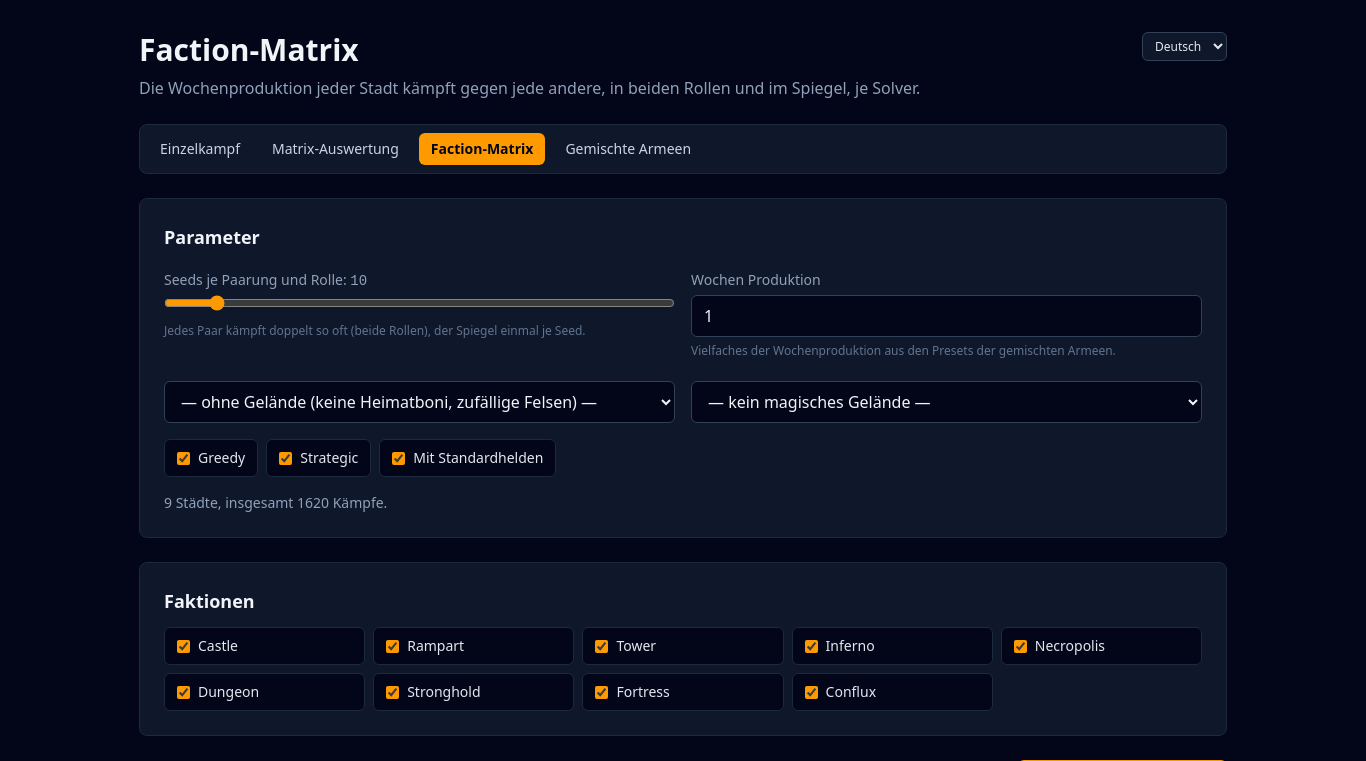
Test case: FactionMatrixPage › sends the options and shows ranking and matrix per solver
Select "Wasser" in the dropdown named "Gelände" at (420, 402), box [164,381,675,423]
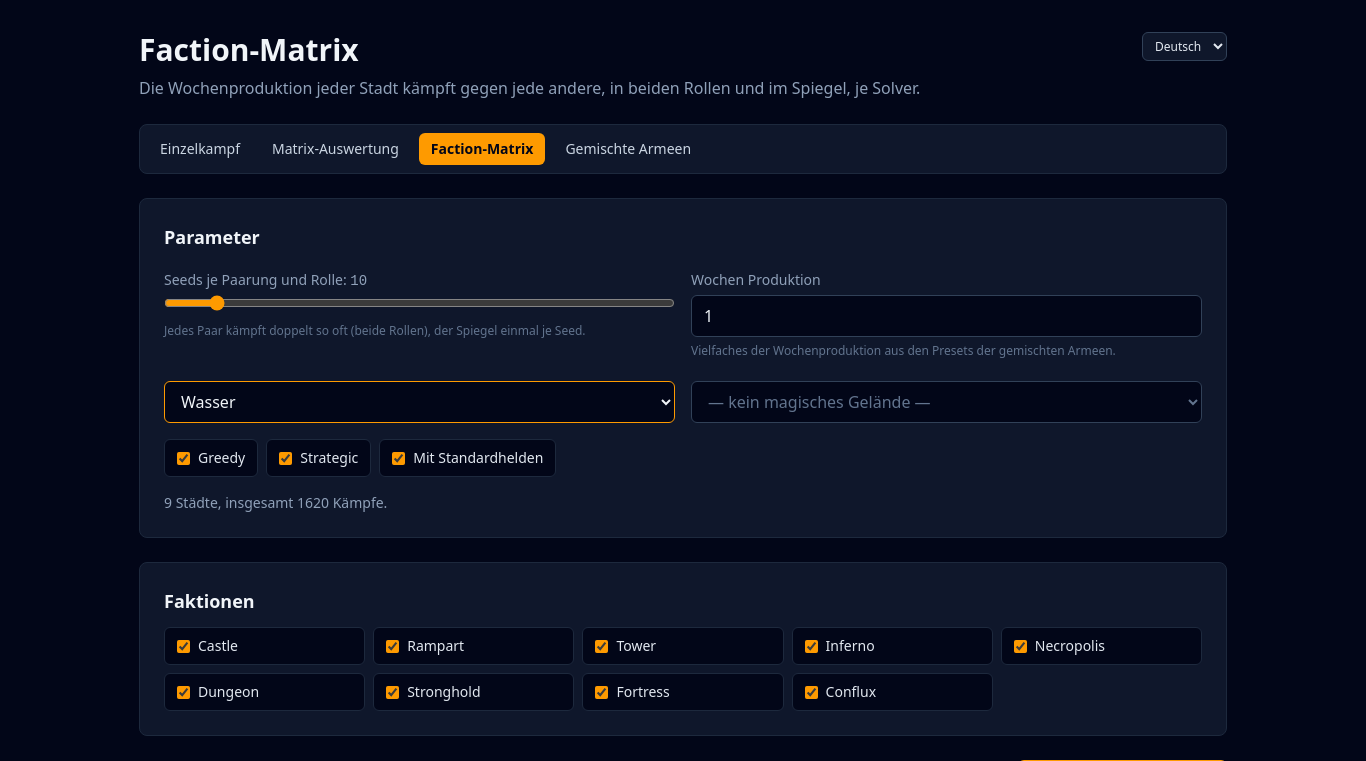
Check: the dropdown named "Magisches Gelände" is disabled, box [691,381,1202,423]
Click the checkbox labelled "Mit Standardhelden" at (399, 458), box [392,452,405,464]
(page scrolled)
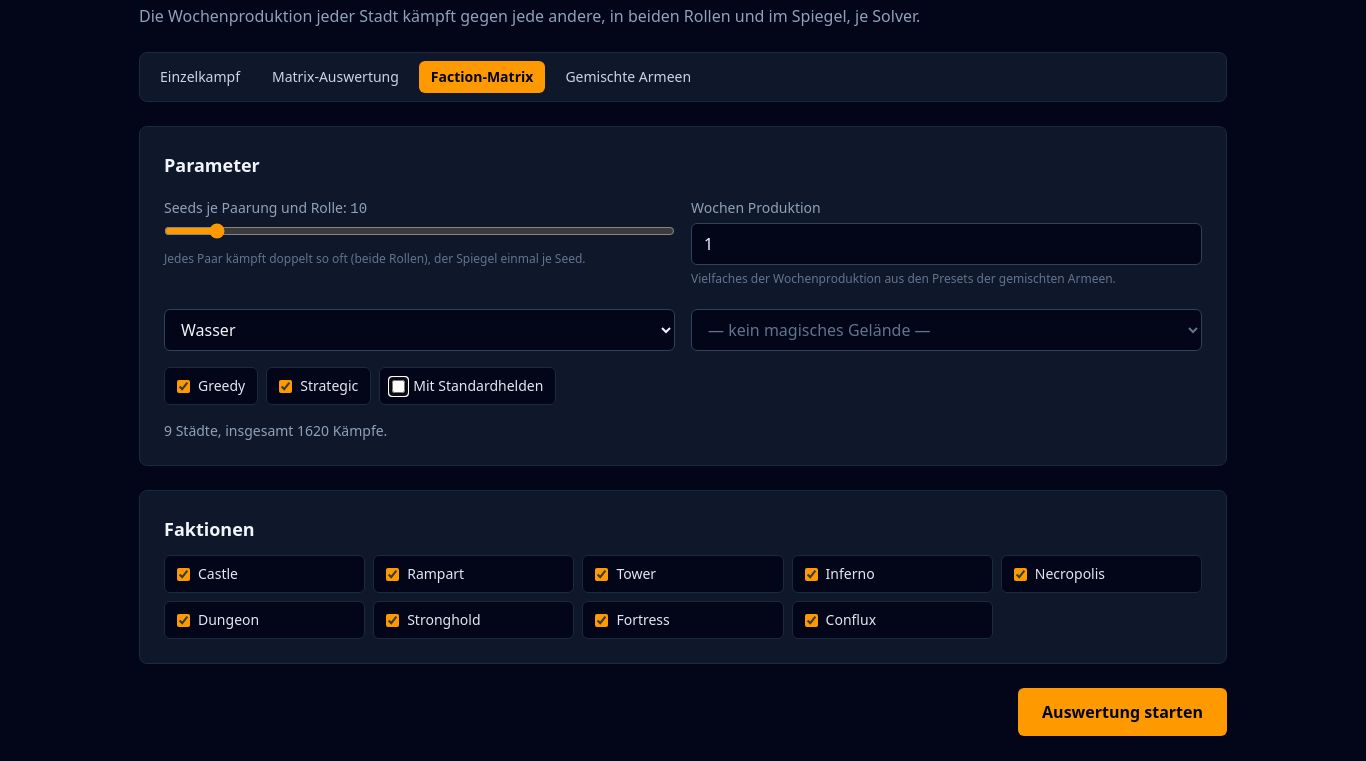
Click the button "Auswertung starten" at (1123, 712), box [1018,688,1227,736]
(page scrolled)
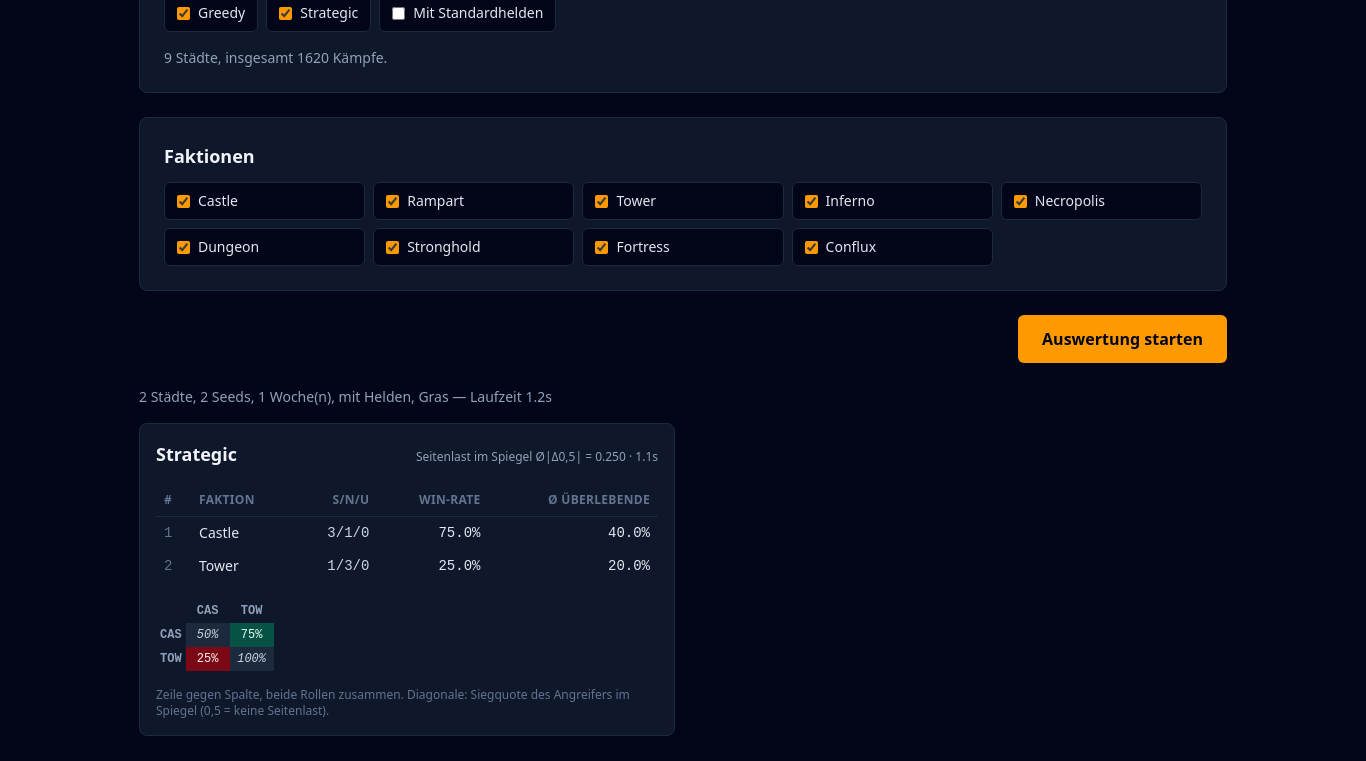
Check: the cells read "50%", "75%", "25%", "100%", in this order, box [186,623,230,647]; [230,623,274,647]; [186,647,230,671]; [230,647,274,671]
Check: the text "Seitenlast im Spiegel Ø|Δ0,5| = 0.250 · 1.1s" is shown, box [416,449,658,465]
